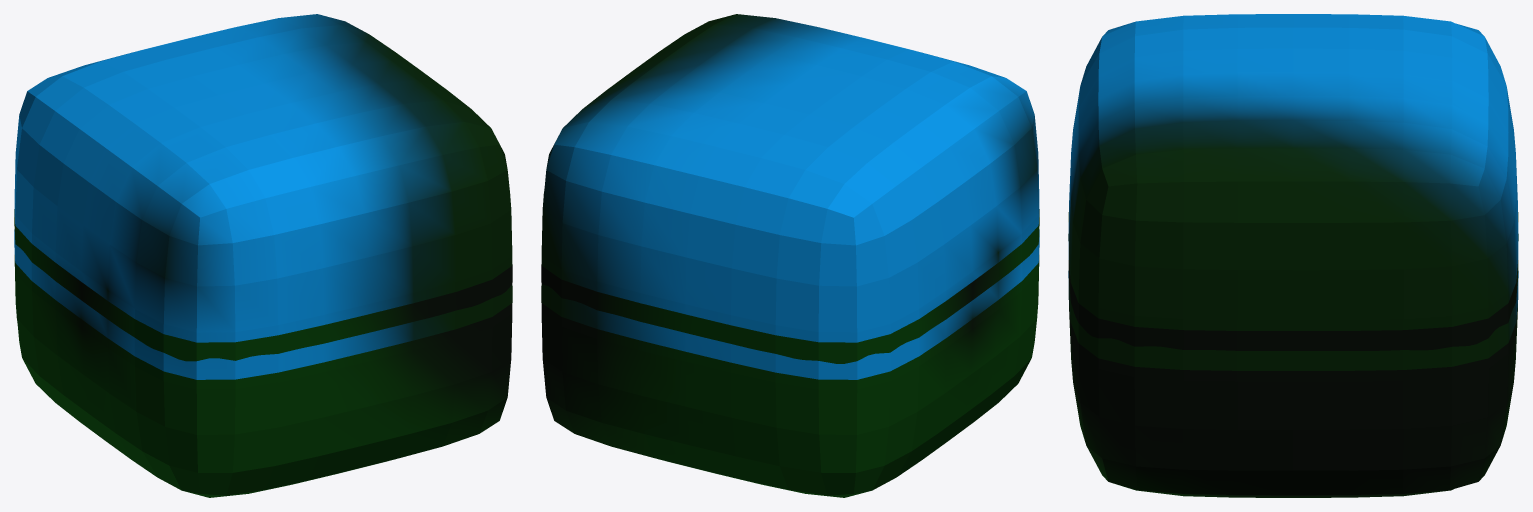
The model's file is sky_ground.glb.
3 renders of one model, left to right at view 1: azimuth 30°, elevation 25°; view 2: azimuth 150°, elevation 25°; view 3: azimuth 270°, elevation 25°, orthographic. The views are drawn at different scales.
Parts seen in each view (by area): view 1: sky, trees; view 2: sky, trees; view 3: sky, trees.
Part boxes in pixels (x1,y1,x2,y2): sky: (14, 14, 512, 379); trees: (14, 209, 512, 497); sky: (541, 14, 1039, 379); trees: (541, 209, 1039, 497); sky: (1068, 14, 1518, 370); trees: (1068, 212, 1518, 497).
Bounding box in the file's own units: 215 × 194 × 215.
